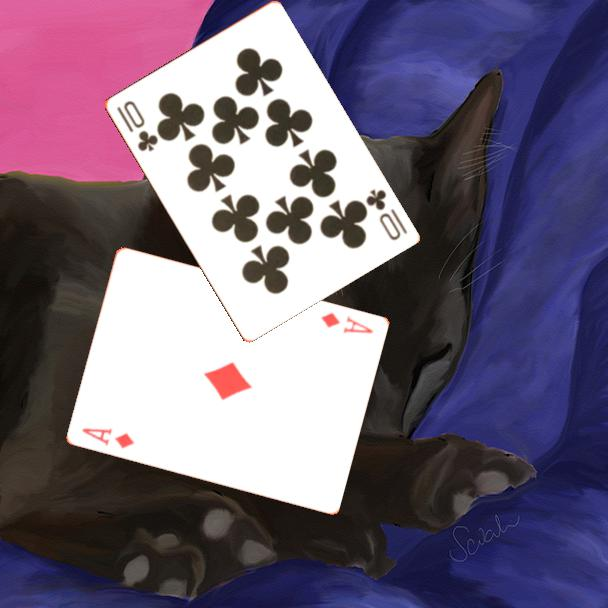c10: (361, 185, 410, 243), (113, 97, 161, 155)
d01: (78, 424, 137, 452), (317, 309, 376, 337)
